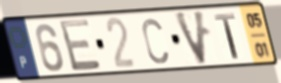2: (105, 16, 138, 72)
6: (34, 21, 65, 74)
C: (140, 16, 170, 66)
E: (56, 17, 104, 74)
T: (212, 11, 241, 61)
V: (171, 9, 210, 68)
